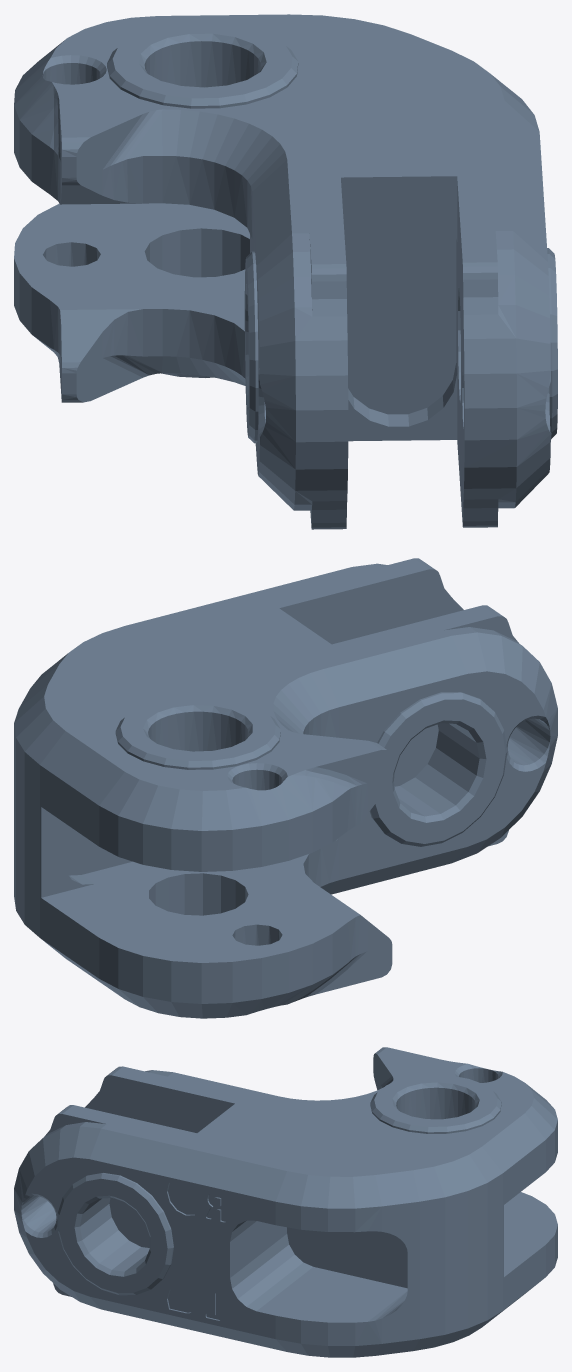
File: thumb_proximal.glb
3 renders of one model, top to bottom at view 1: azimuth 30°, elevation 25°; view 2: azimuth 150°, elevation 25°; view 3: azimuth 270°, elevation 25°, orthographic. The views are drawn at different scales.
Parts seen in each view (by area): view 1: L_thumb_prox; view 2: L_thumb_prox; view 3: L_thumb_prox.
Part boxes in pixels (box(x1,y1,x2,y2)): L_thumb_prox: box(14, 14, 557, 529); L_thumb_prox: box(14, 558, 557, 1018); L_thumb_prox: box(14, 1047, 557, 1357).
Bounding box in the file's own units: 0.0168 × 0.0106 × 0.0273.
